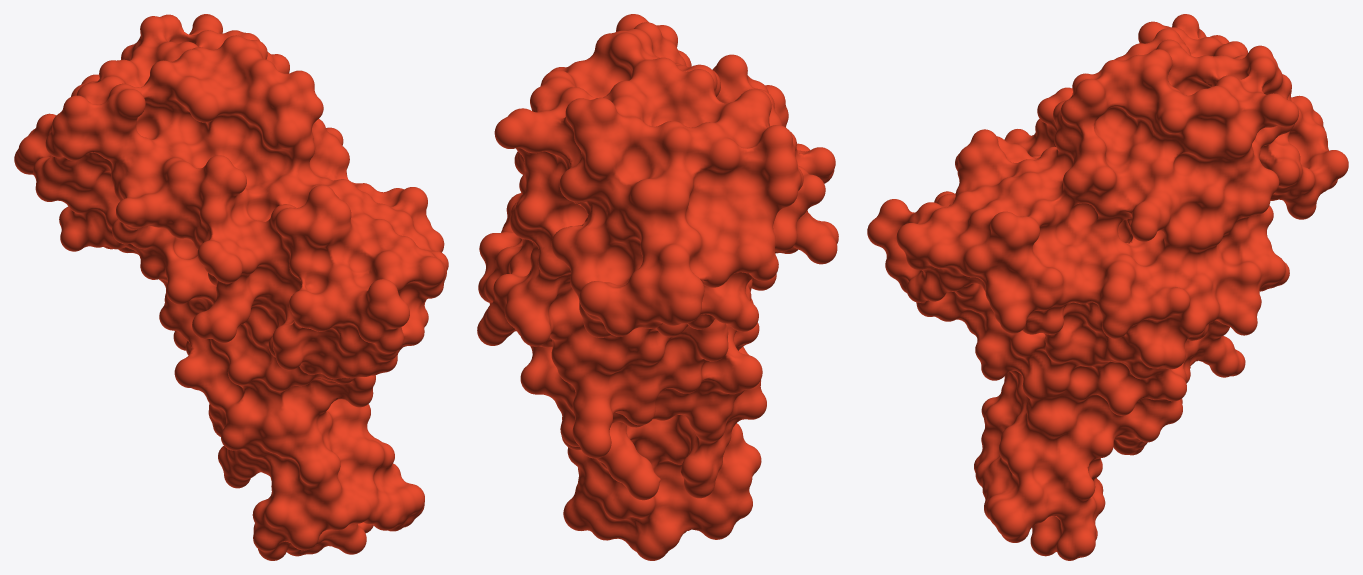
File: spike_molecular.obj
The picture shows the model from 3 angles, left to right: view 1: azimuth 30°, elevation 25°; view 2: azimuth 150°, elevation 25°; view 3: azimuth 270°, elevation 25°; orthographic projection. The views are drawn at different scales.
Bounding box in the file's own units: 38.33 × 60.3 × 54.76.
